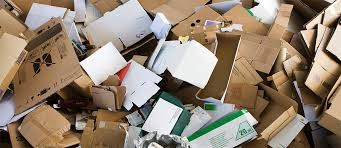paper: (10, 14, 87, 117), (218, 26, 283, 116), (80, 1, 163, 59), (146, 35, 219, 92), (298, 20, 341, 102), (14, 101, 83, 148), (182, 106, 261, 147), (138, 91, 189, 147), (76, 40, 132, 87), (254, 104, 313, 148), (77, 108, 136, 148), (149, 10, 174, 43)
